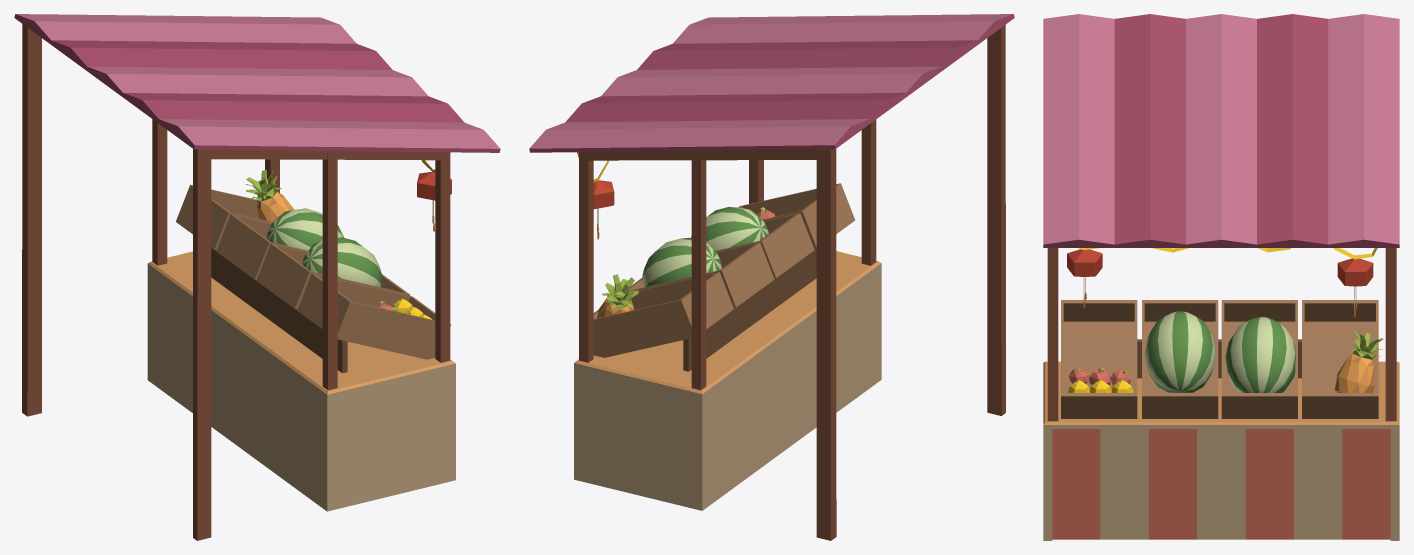
File: Store_02.glb
The picture shows the model from 3 angles, left to right: view 1: azimuth 30°, elevation 25°; view 2: azimuth 150°, elevation 25°; view 3: azimuth 270°, elevation 25°; orthographic projection.
Visible parts, largest first — view 1: Store_02; view 2: Store_02; view 3: Store_02.
Part boxes in pixels (box(x1,y1,x2,y2)): Store_02: box(14, 14, 500, 540); Store_02: box(529, 14, 1014, 540); Store_02: box(1043, 14, 1399, 540).
Size of what is drawn, in the model's own units: 2.71 by 3.4 by 2.74.
1 material, 1 textured.
